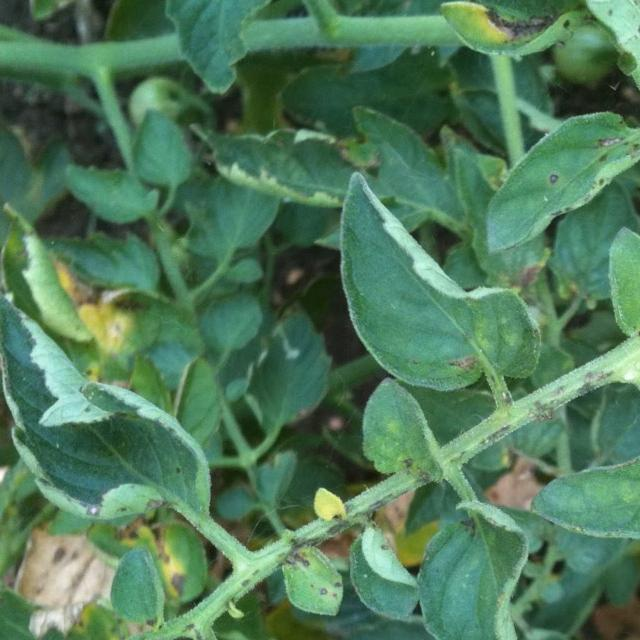Tomato leaf bacterial spot: (0, 269, 260, 579), (322, 185, 549, 395), (475, 91, 640, 257), (500, 430, 640, 571), (254, 536, 354, 635)
